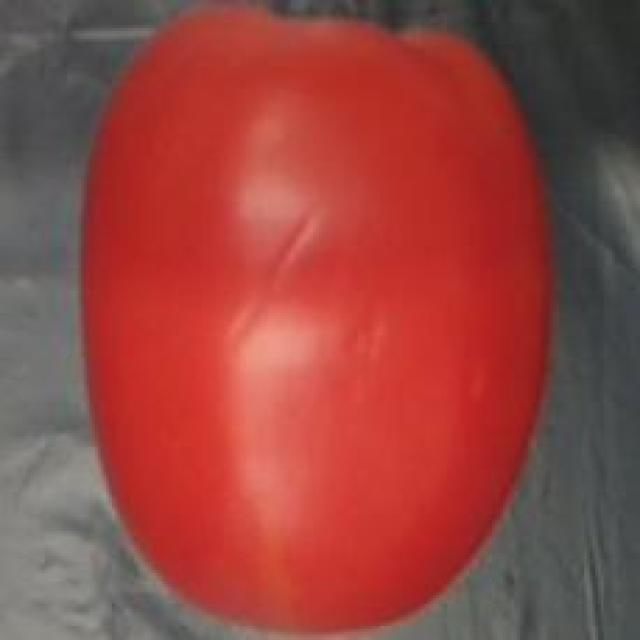ripe tomato: (69, 5, 567, 640)
